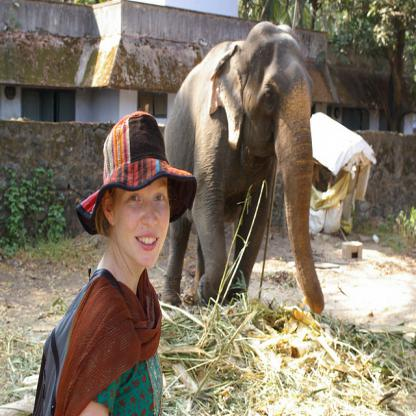backpack: (32, 266, 123, 416)
